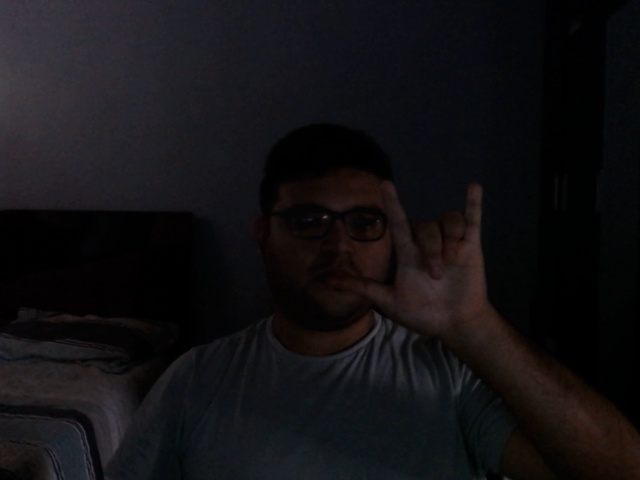I love you: (343, 178, 493, 349)
